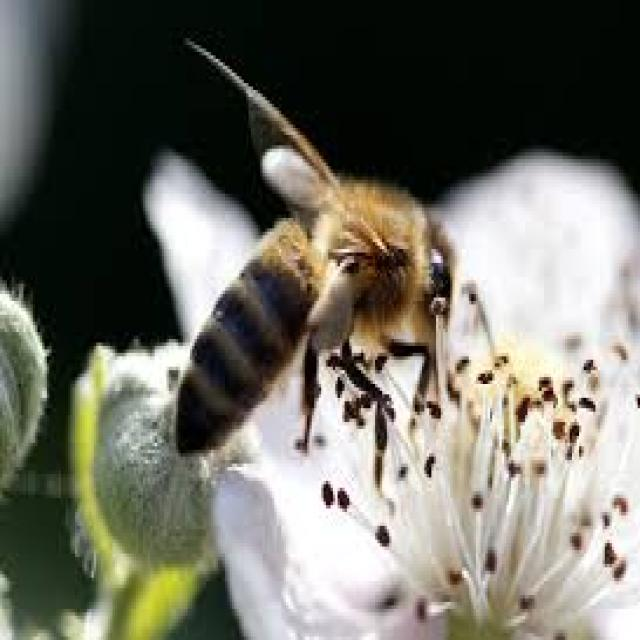Bees: (168, 35, 456, 495)
